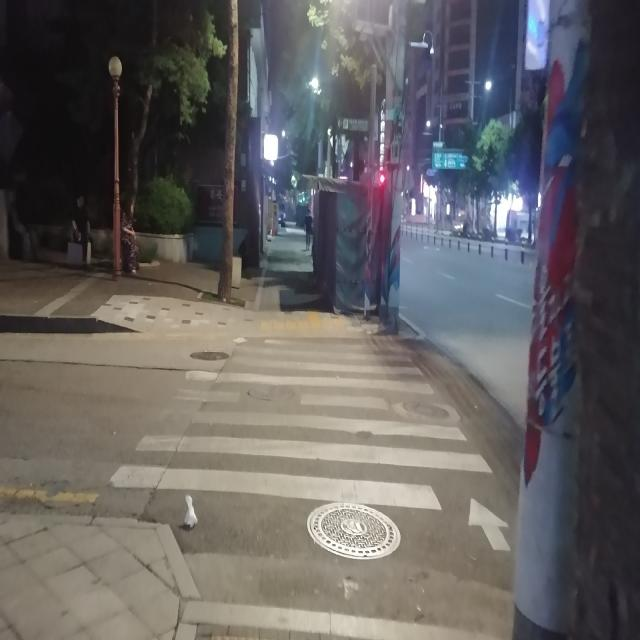횡단보도: (108, 334, 512, 554)
